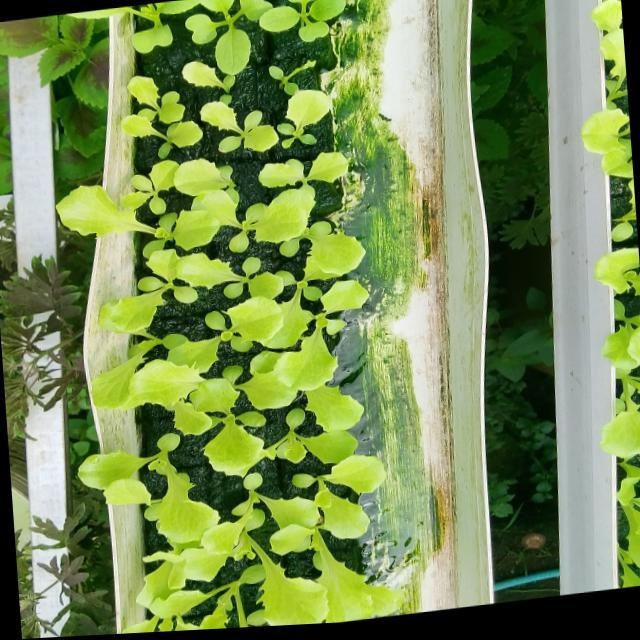Baby: (239, 492, 401, 599), (83, 175, 238, 286), (63, 544, 228, 636), (292, 375, 416, 482), (231, 233, 356, 338), (252, 164, 359, 283), (76, 3, 209, 93), (258, 47, 386, 137), (84, 67, 186, 170), (238, 340, 407, 396), (110, 238, 206, 328), (91, 320, 183, 410), (270, 291, 389, 354), (168, 42, 261, 121), (121, 472, 197, 567), (98, 411, 212, 474), (196, 231, 274, 318), (149, 0, 305, 37), (190, 475, 262, 541), (200, 421, 253, 493)
